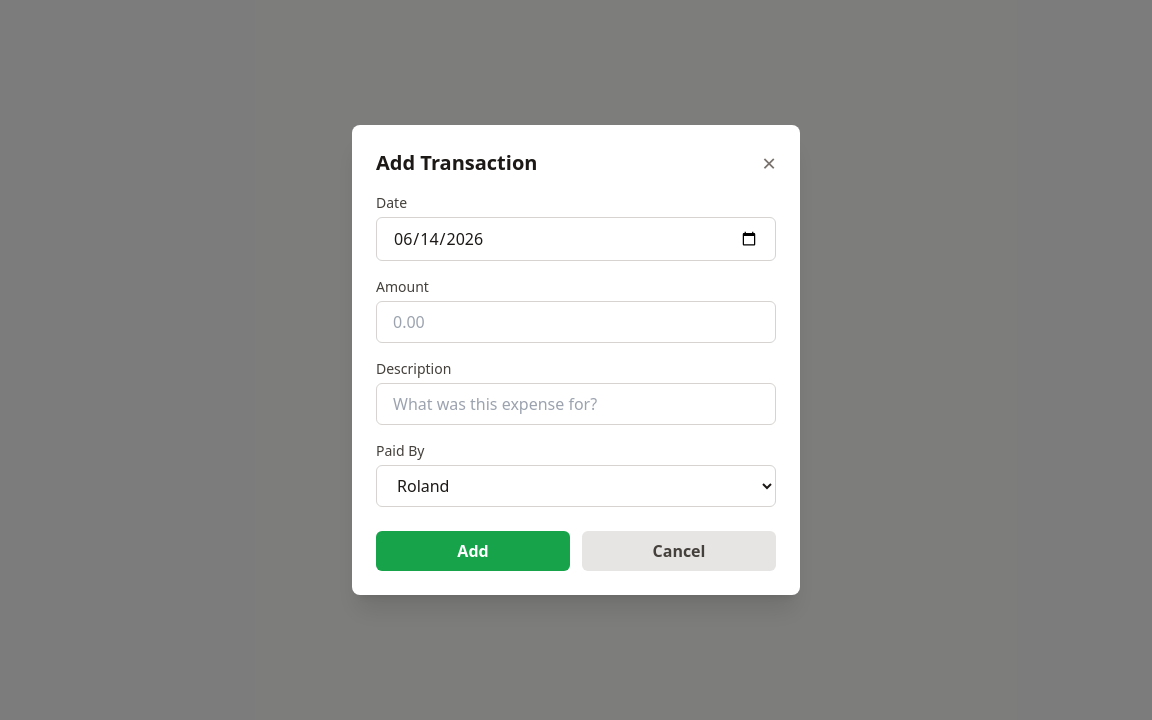
Scenario: AddTransactionPopup › shows error message on failed save
In the field labelled "Amount": (576, 322) left=376, top=301, right=776, bottom=343, type "10.00"
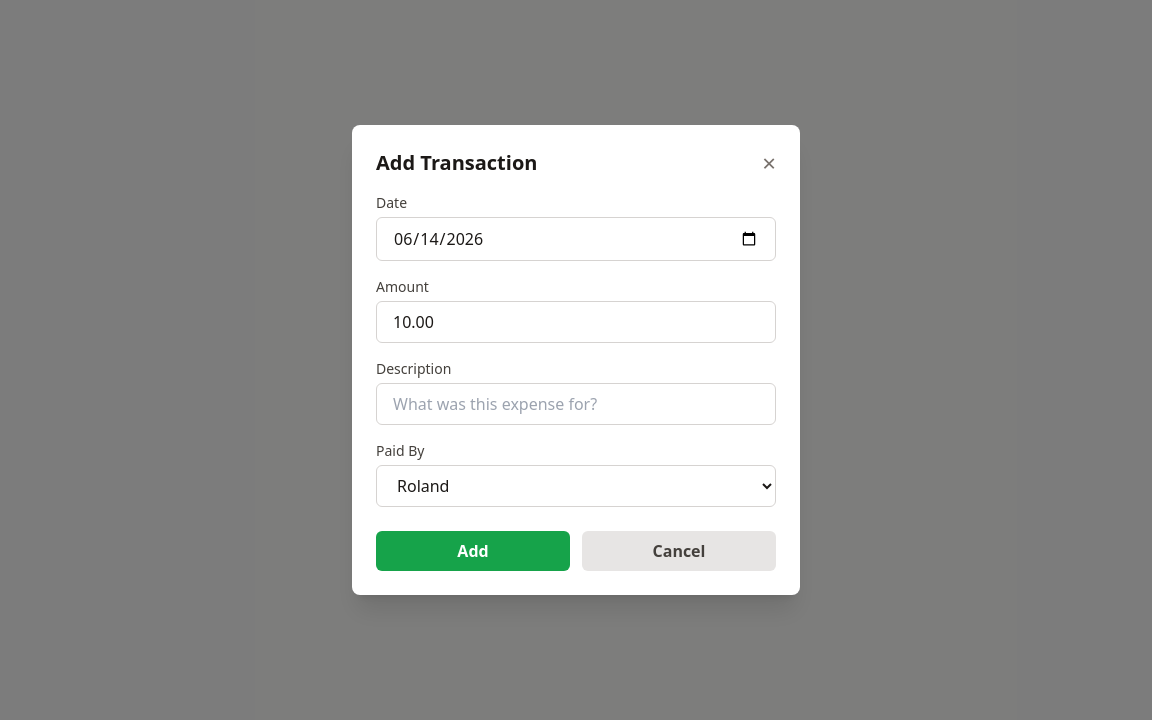
In the field labelled "Description": (576, 404) left=376, top=383, right=776, bottom=425, type "Test"
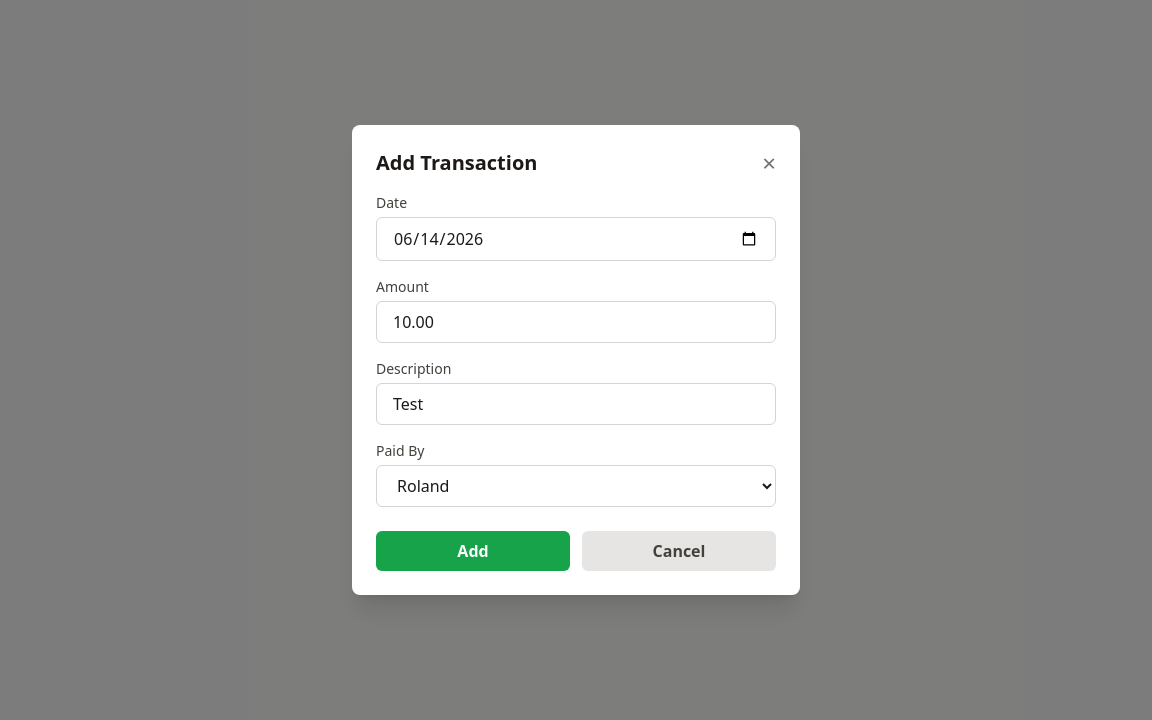
Click the button "Add": (473, 551) left=376, top=531, right=570, bottom=571
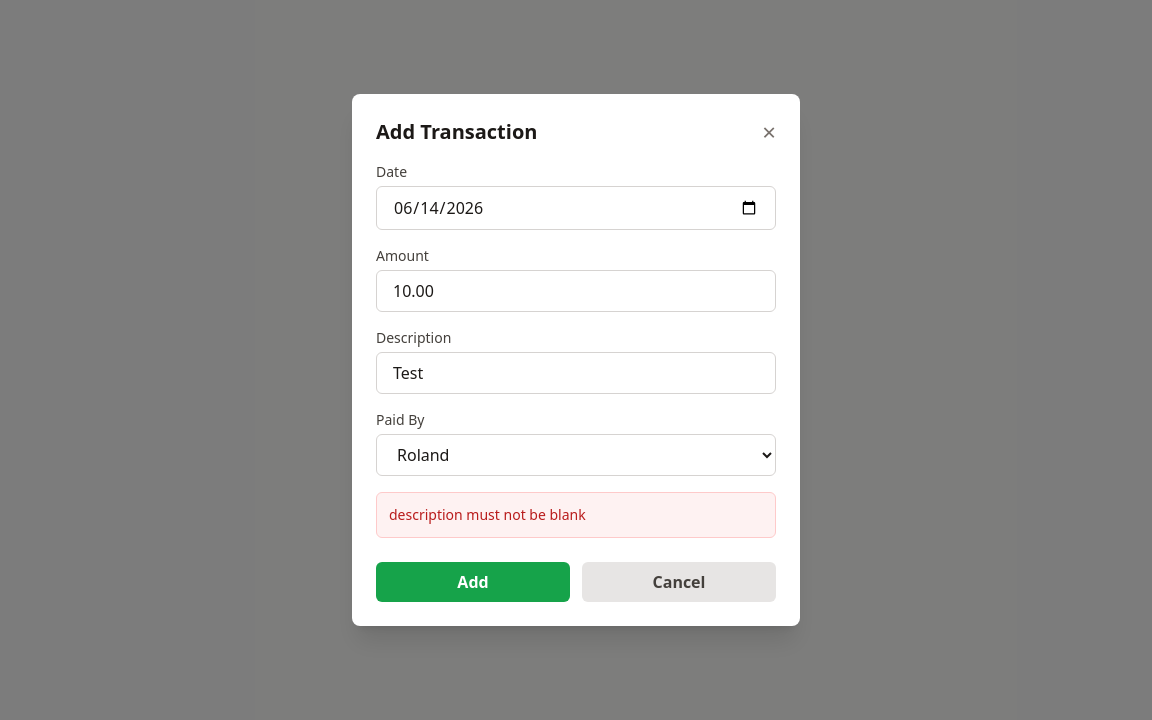
Expected: the text "description must not be blank" is shown, left=389, top=505, right=586, bottom=524
